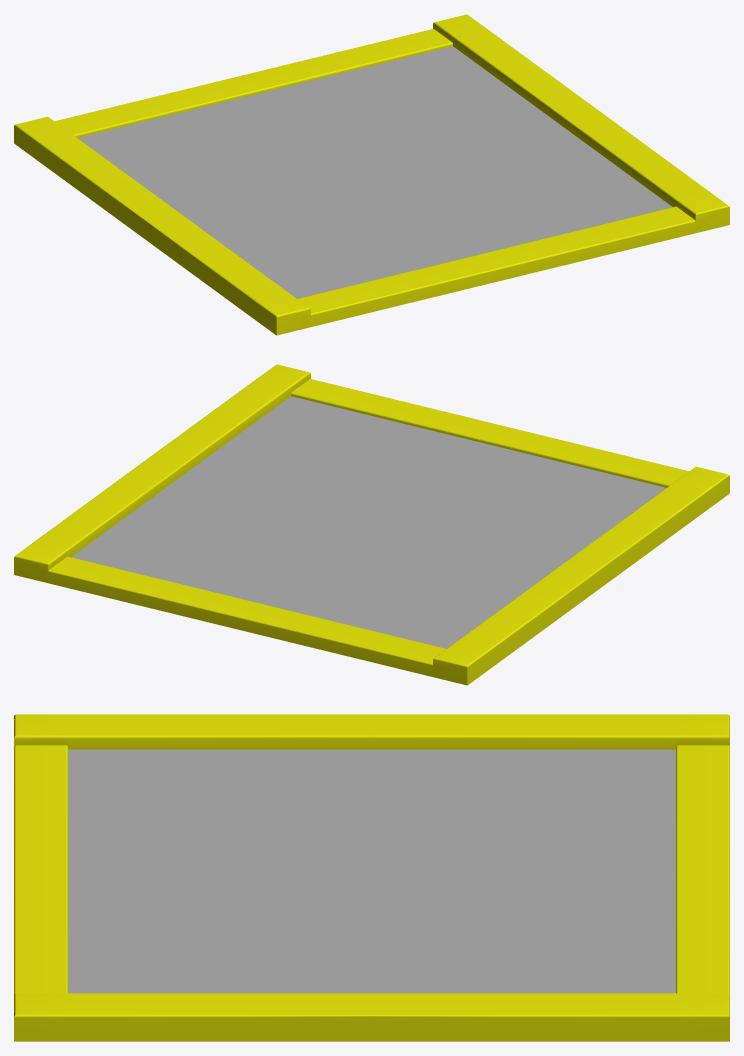
The picture shows the model from 3 angles, top to bottom: view 1: azimuth 30°, elevation 25°; view 2: azimuth 150°, elevation 25°; view 3: azimuth 270°, elevation 25°; orthographic projection. The views are drawn at different scales.
Parts seen in each view (by area): view 1: go_board_1; view 2: go_board_1; view 3: go_board_1.
Boxes of the visible parts, <box> form: go_board_1: <box>14,14,729,335</box>; go_board_1: <box>14,364,729,685</box>; go_board_1: <box>14,714,729,1041</box>.
Size of the model in its own units: 44.56 by 1.82 by 44.68.
